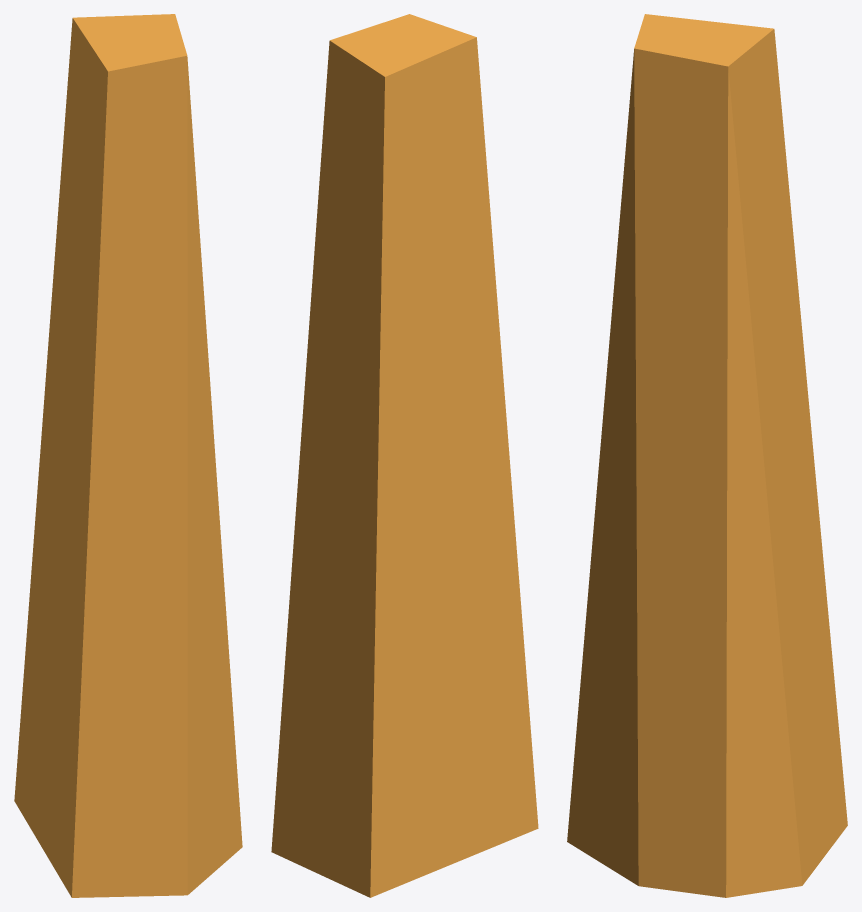
3 views of the same model, side by side, from view 1: azimuth 30°, elevation 25°; view 2: azimuth 150°, elevation 25°; view 3: azimuth 270°, elevation 25° (orthographic). The views are drawn at different scales.
Parts seen in each view (by area): view 1: Cube.007; view 2: Cube.007; view 3: Cube.007.
Boxes of the visible parts, x1,y1,x2,y2 form: Cube.007: [14, 14, 242, 897]; Cube.007: [271, 14, 538, 897]; Cube.007: [567, 14, 847, 897].
Bounding box in the file's own units: 0.2433 × 0.9155 × 0.2878.
